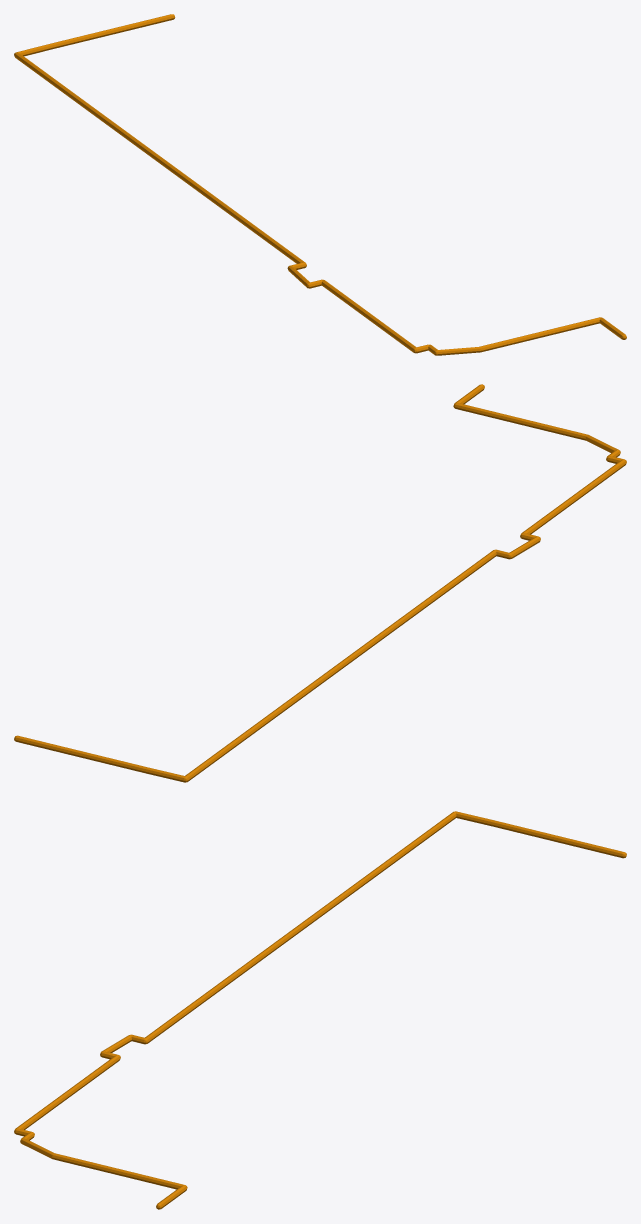
The picture shows the model from 3 angles, top to bottom: view 1: azimuth 30°, elevation 25°; view 2: azimuth 150°, elevation 25°; view 3: azimuth 330°, elevation 25°; orthographic projection. The views are drawn at different scales.
Bounding box in the file's own units: 702 × 20 × 2863.
